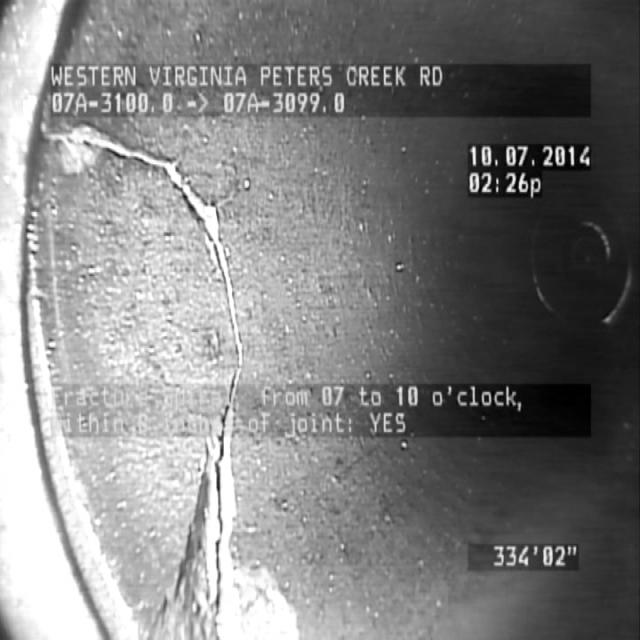Fracture: (97, 137, 298, 577)
